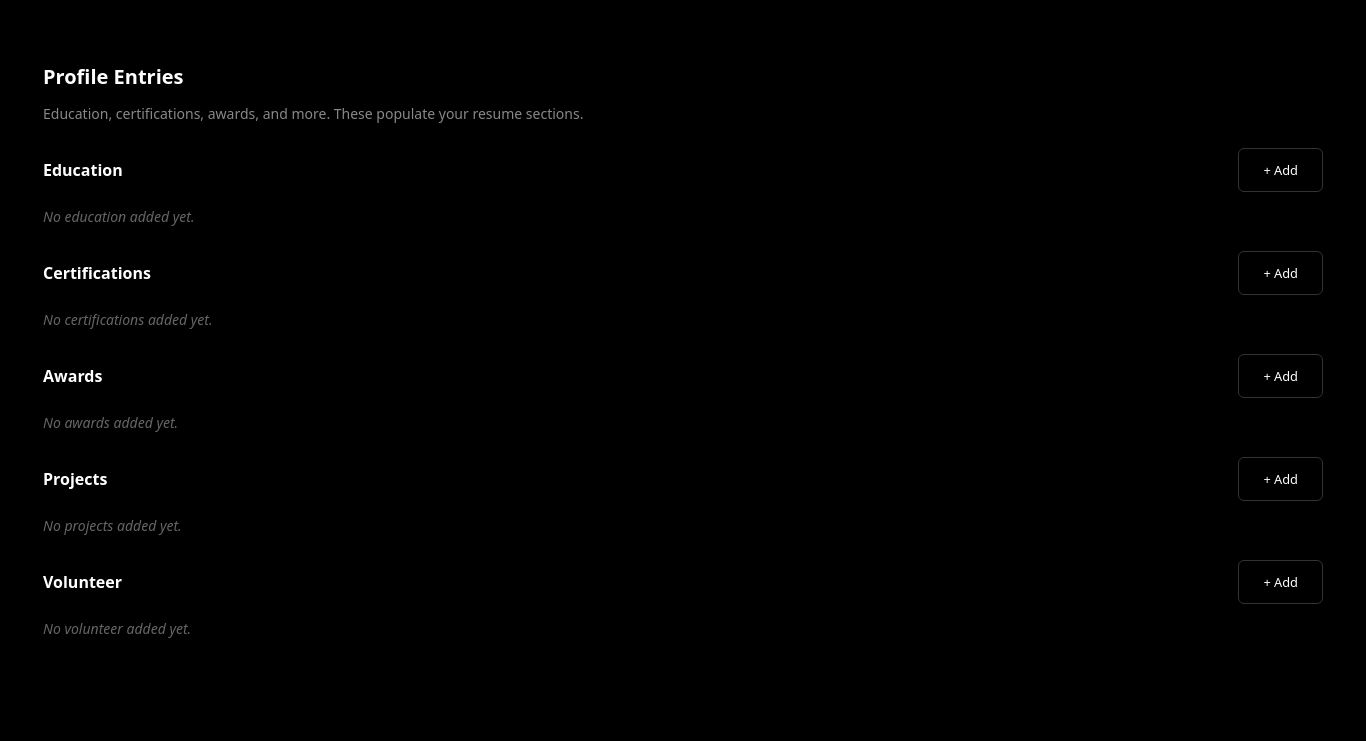
Scenario: ProfileEntriesEditor › add button opens SubSectionEditForm
The width and height of the screenshot is (1366, 741).
Click the button with test id "add-entry-education" at (1281, 170), box [1238, 148, 1323, 192]
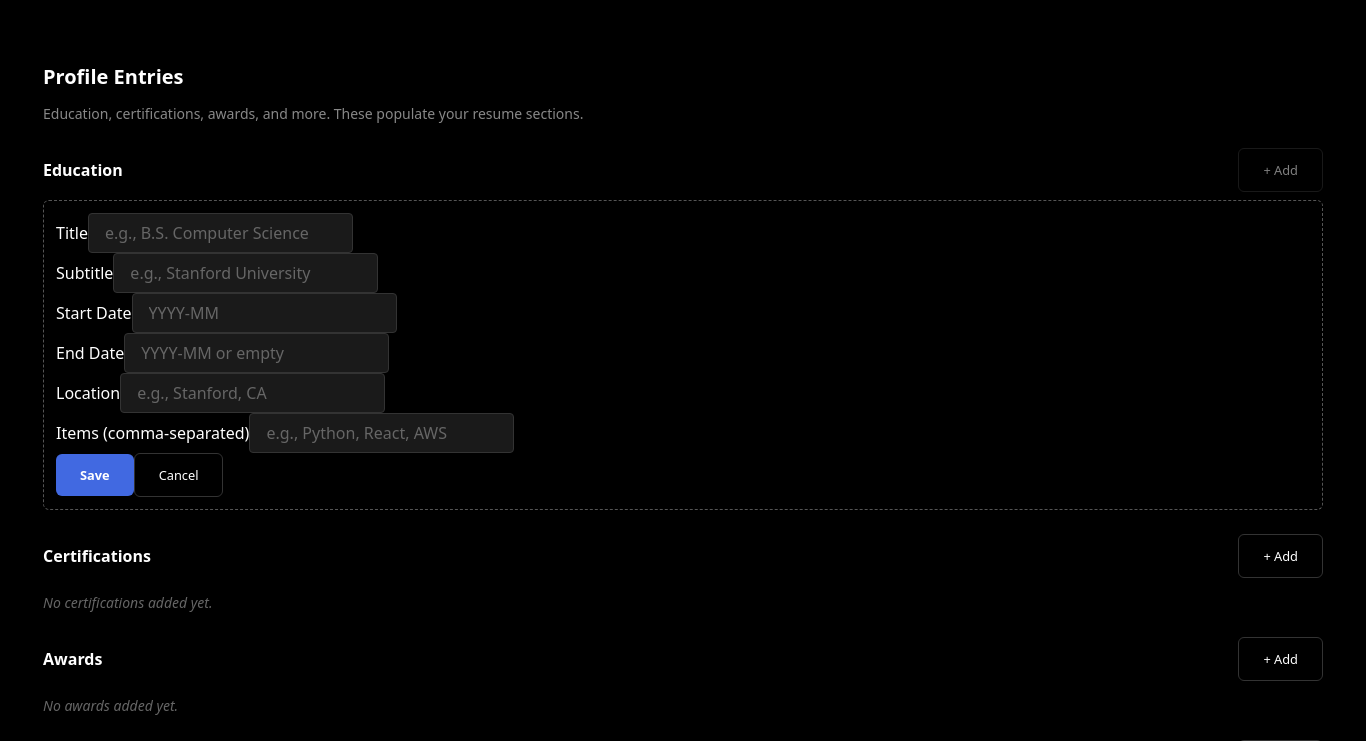
Now the element with test id "add-entry-form-education" is shown, box [43, 200, 1323, 510]
Now the element with test id "subsection-edit-form" is shown, box [56, 213, 514, 497]
